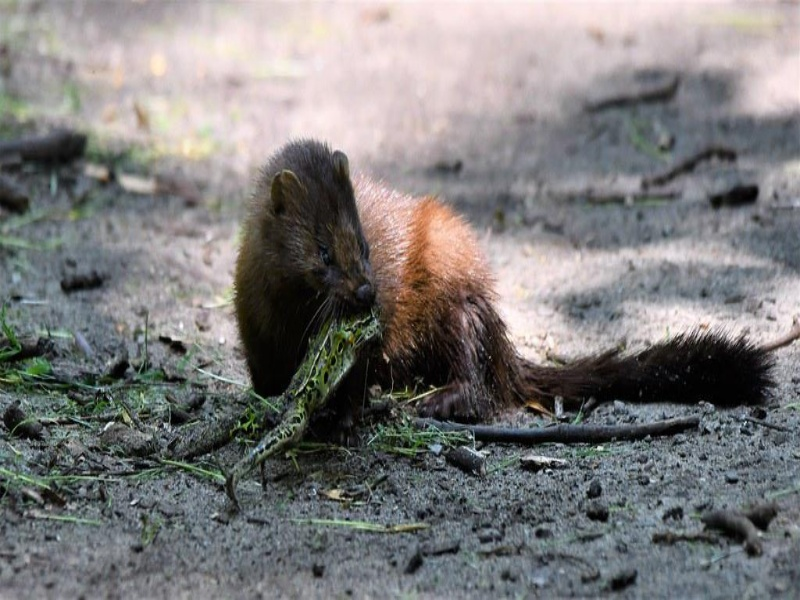minkish: (233, 137, 778, 436)
